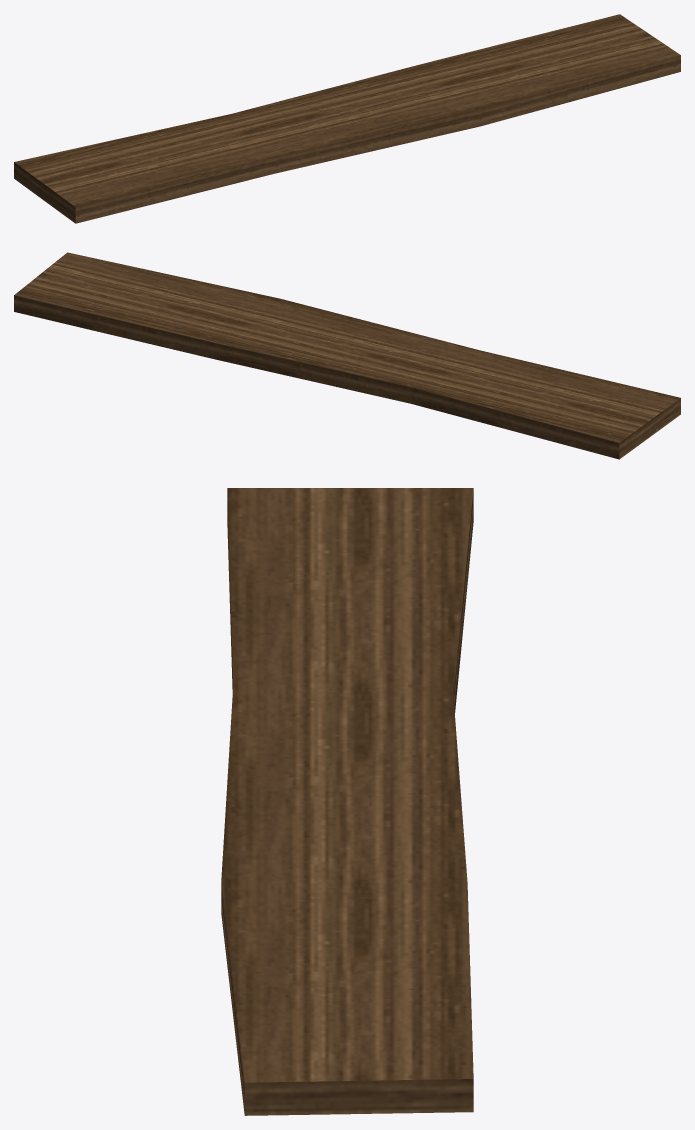
Rendered from rail.glb.
3 views of the same model, one above another, from view 1: azimuth 30°, elevation 25°; view 2: azimuth 150°, elevation 25°; view 3: azimuth 270°, elevation 25° (orthographic). The views are drawn at different scales.
Visible parts, largest first — view 1: Cube; view 2: Cube; view 3: Cube.
Boxes of the visible parts, left/top/right/bottom form: Cube: left=14, top=14, right=680, bottom=223; Cube: left=14, top=252, right=680, bottom=459; Cube: left=221, top=488, right=473, bottom=1115.
Size of the model in its own units: 3.42 by 0.0891 by 0.6136.
1 material, 1 textured.
